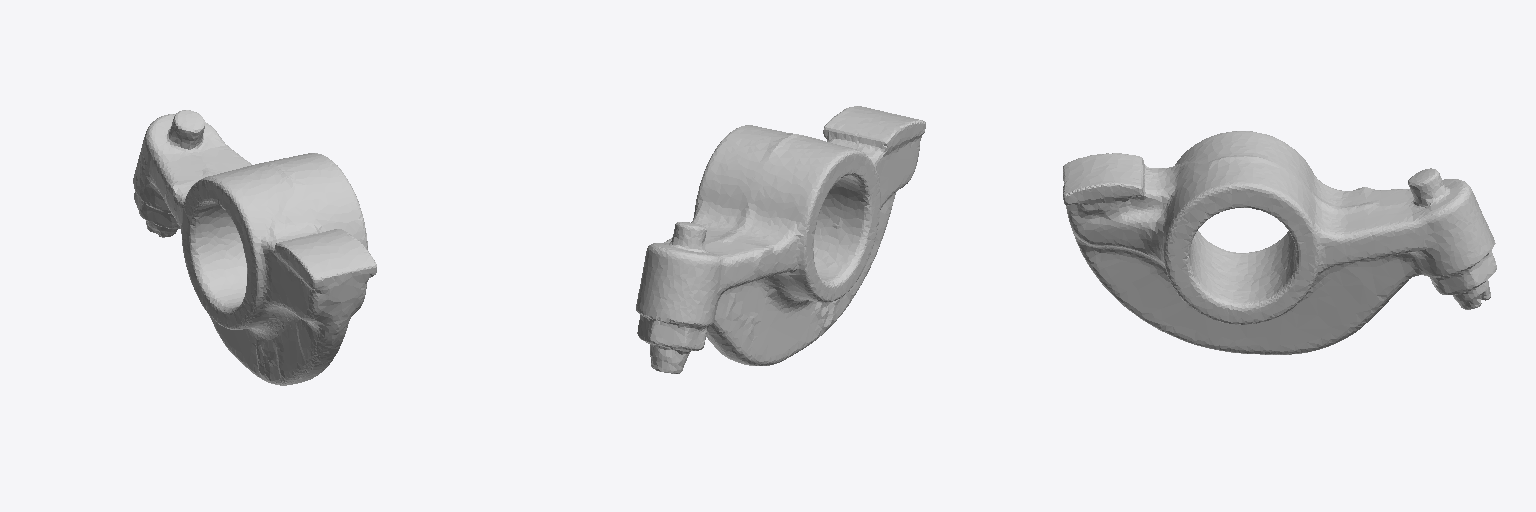
The model's file is RockerArm.obj.
3 renders of one model, left to right at view 1: azimuth 30°, elevation 25°; view 2: azimuth 150°, elevation 25°; view 3: azimuth 270°, elevation 25°, orthographic.
Parts seen in each view (by area): view 1: rocker-arm; view 2: rocker-arm; view 3: rocker-arm.
Boxes of the visible parts, box(x1,y1,x2,y2) form: rocker-arm: box(133, 110, 376, 385); rocker-arm: box(636, 106, 925, 373); rocker-arm: box(1063, 131, 1496, 354).
Size of the model in its own units: 0.3035 by 0.5149 by 1.